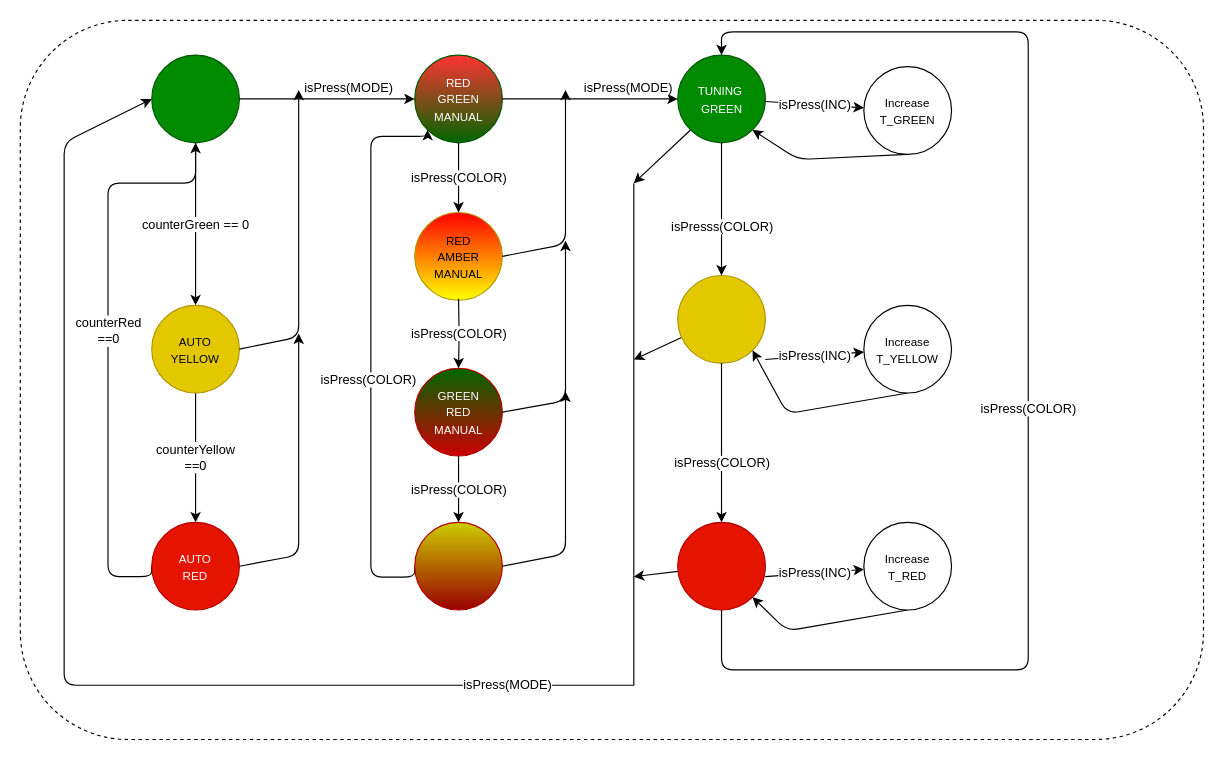
Some shapes in this 1224 by 760 pixel diagram are drawn without their labels. The shapes that lost their labels are listed below. From the top down, each one's centre as x and y in pixels, then its label:
At point (195, 98): "AUTO GREEN".
At point (721, 318): "TUNNING YELLOW".
At point (458, 565): "AMBER RED MANUAL".
At point (721, 565): "TUNNING RED".
